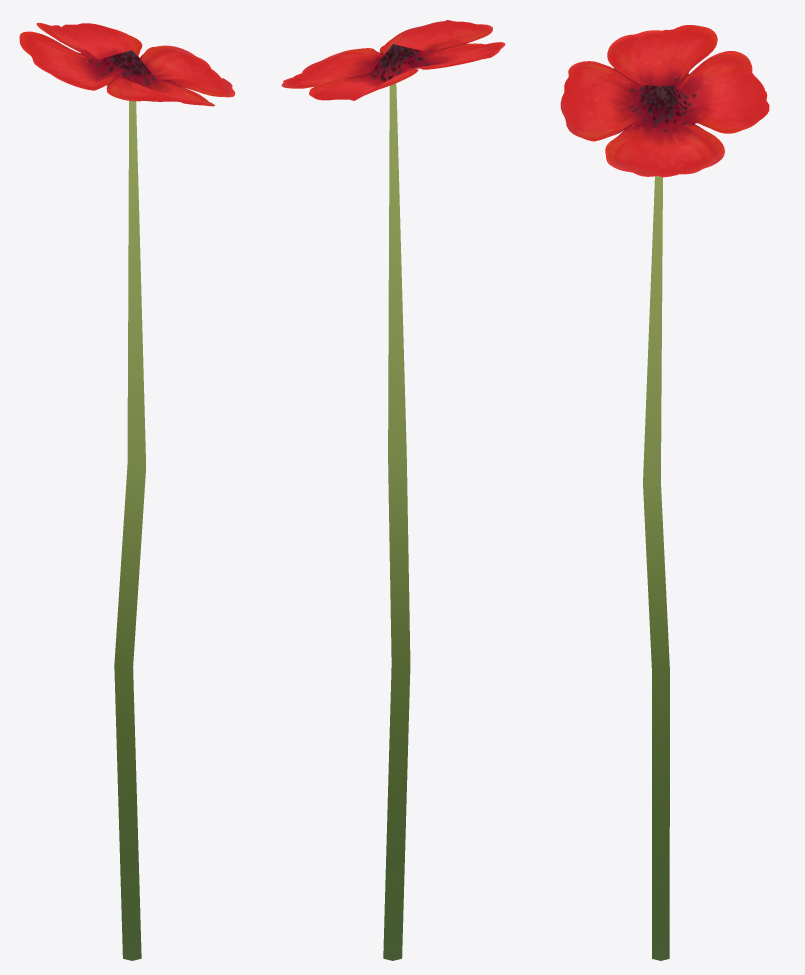
The model's file is poppy_2.fbx.
3 views of the same model, side by side, from view 1: azimuth 30°, elevation 25°; view 2: azimuth 150°, elevation 25°; view 3: azimuth 270°, elevation 25° (orthographic). The views are drawn at different scales.
Visible parts, largest first — view 1: poppy_2_low; view 2: poppy_2_low; view 3: poppy_2_low.
Boxes of the visible parts, <box> form: poppy_2_low: <box>19,23,235,960</box>; poppy_2_low: <box>281,20,505,960</box>; poppy_2_low: <box>560,25,769,960</box>.
Bounding box in the file's own units: 49.17 × 197 × 48.79.
